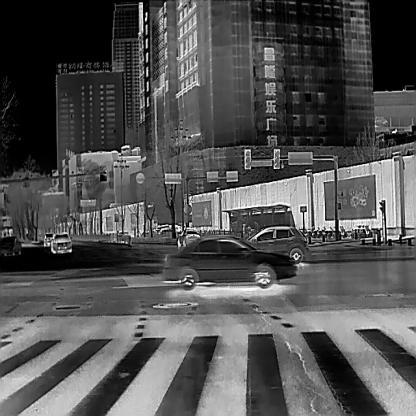car: (162, 234, 297, 291), (245, 224, 310, 264), (50, 231, 72, 253), (0, 234, 22, 255), (177, 228, 200, 246), (43, 232, 53, 246)
